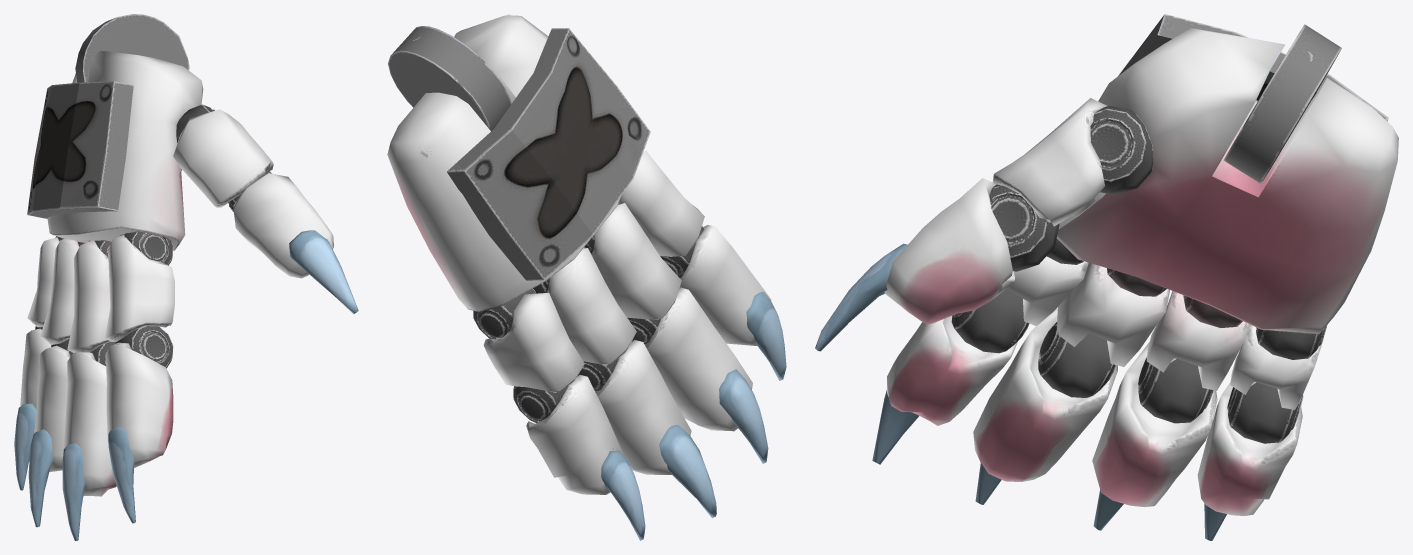
File: handR.fbx
The picture shows the model from 3 angles, left to right: view 1: azimuth 30°, elevation 25°; view 2: azimuth 150°, elevation 25°; view 3: azimuth 270°, elevation 25°; orthographic projection. The views are drawn at different scales.
Parts seen in each view (by area): view 1: matte_0.005, metalic_0.008, matte_22.001, matte_12.001, matte_32.001, matte_11.001, matte_21.001, matte_42.001, matte_31.001, matte_52.001, matte_41.001, matte_51.001; view 2: metalic_0.008, matte_0.005, matte_32.001, matte_42.001, matte_52.001, matte_22.001, matte_51.001, matte_31.001, matte_41.001, matte_21.001; view 3: matte_0.005, matte_12.001, matte_32.001, matte_42.001, matte_22.001, matte_11.001, matte_52.001, matte_31.001, matte_41.001, matte_51.001, matte_21.001, metalic_0.008.
Part boxes in pixels (left/top/right/bottom): matte_0.005: left=47, top=14, right=203, bottom=250; metalic_0.008: left=27, top=81, right=133, bottom=218; matte_22.001: left=105, top=326, right=173, bottom=523; matte_12.001: left=228, top=170, right=358, bottom=314; matte_32.001: left=62, top=341, right=116, bottom=540; matte_11.001: left=173, top=104, right=273, bottom=207; matte_21.001: left=105, top=231, right=174, bottom=341; matte_42.001: left=28, top=339, right=72, bottom=527; matte_31.001: left=67, top=240, right=111, bottom=352; matte_52.001: left=14, top=326, right=51, bottom=490; matte_41.001: left=40, top=238, right=84, bottom=344; matte_51.001: left=27, top=236, right=63, bottom=327; metalic_0.008: left=447, top=28, right=650, bottom=280; matte_0.005: left=387, top=15, right=620, bottom=311; matte_32.001: left=627, top=287, right=768, bottom=463; matte_42.001: left=578, top=340, right=716, bottom=518; matte_52.001: left=513, top=374, right=645, bottom=540; matte_22.001: left=660, top=225, right=786, bottom=380; matte_51.001: left=473, top=288, right=584, bottom=392; matte_31.001: left=583, top=203, right=681, bottom=319; matte_41.001: left=533, top=248, right=636, bottom=365; matte_21.001: left=618, top=151, right=704, bottom=256; matte_0.005: left=1056, top=24, right=1398, bottom=334; matte_12.001: left=815, top=178, right=1059, bottom=351; matte_32.001: left=973, top=307, right=1117, bottom=504; matte_42.001: left=1092, top=342, right=1217, bottom=530; matte_22.001: left=872, top=289, right=1029, bottom=464; matte_11.001: left=992, top=98, right=1153, bottom=228; matte_52.001: left=1197, top=382, right=1303, bottom=540; matte_31.001: left=1057, top=263, right=1169, bottom=366; matte_41.001: left=1146, top=291, right=1249, bottom=390; matte_51.001: left=1230, top=324, right=1327, bottom=409; matte_21.001: left=993, top=238, right=1088, bottom=326; metalic_0.008: left=1118, top=14, right=1388, bottom=121.
Size of the model in its own units: 519 by 759 by 877.
Materials: 1 (1 with a texture image).
